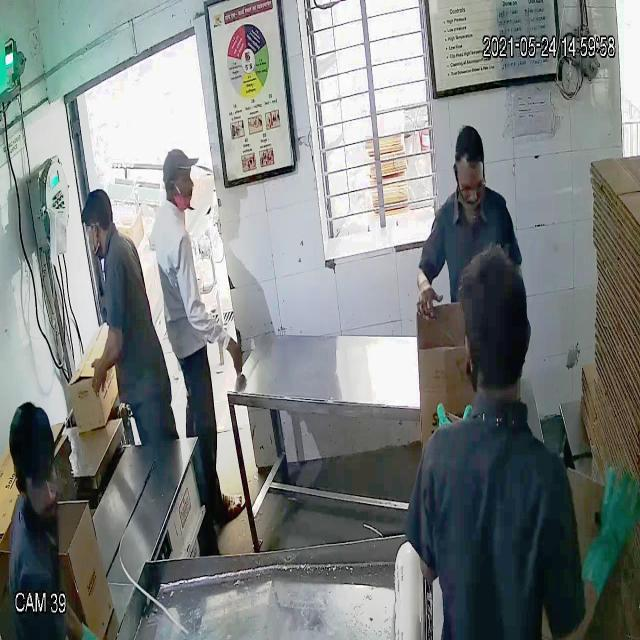glasses: (453, 164, 487, 202)
